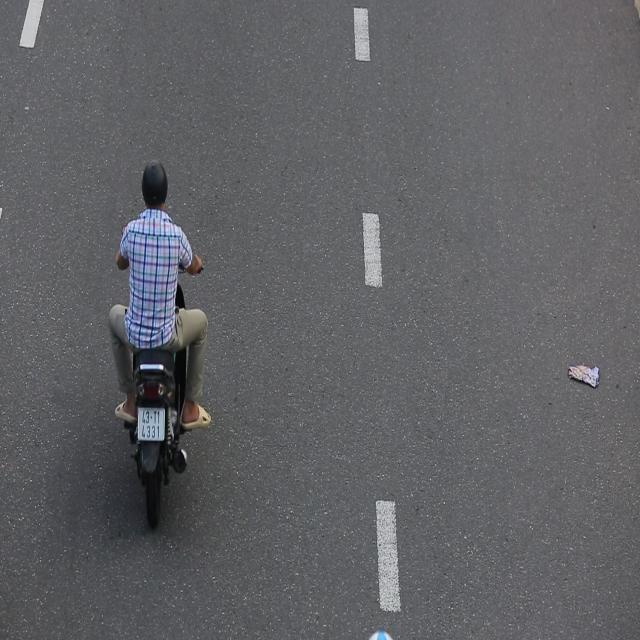motorbike: (108, 147, 216, 526)
